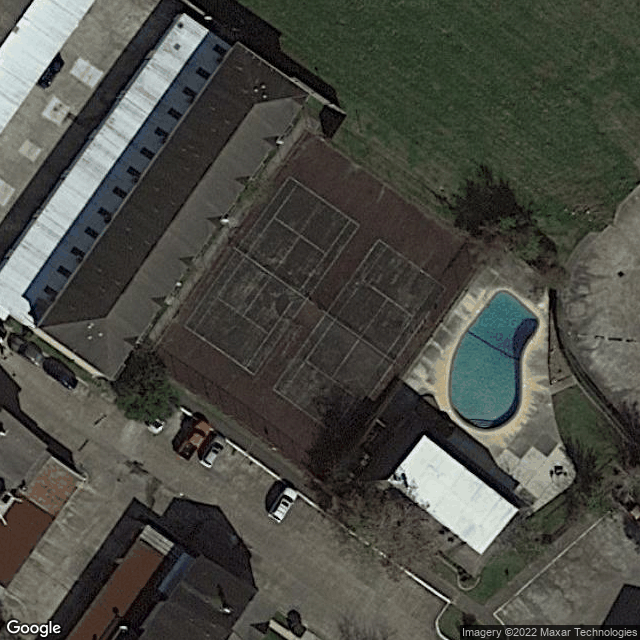Court: (182, 174, 360, 377), (272, 238, 448, 440)
